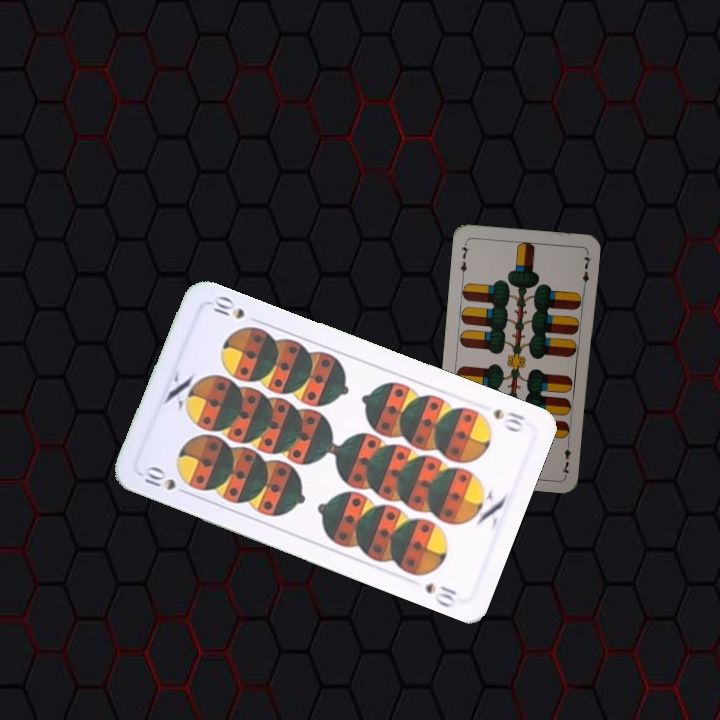E7: (456, 239, 471, 279), (558, 437, 573, 477)
S10: (137, 462, 193, 498), (489, 404, 527, 435)
